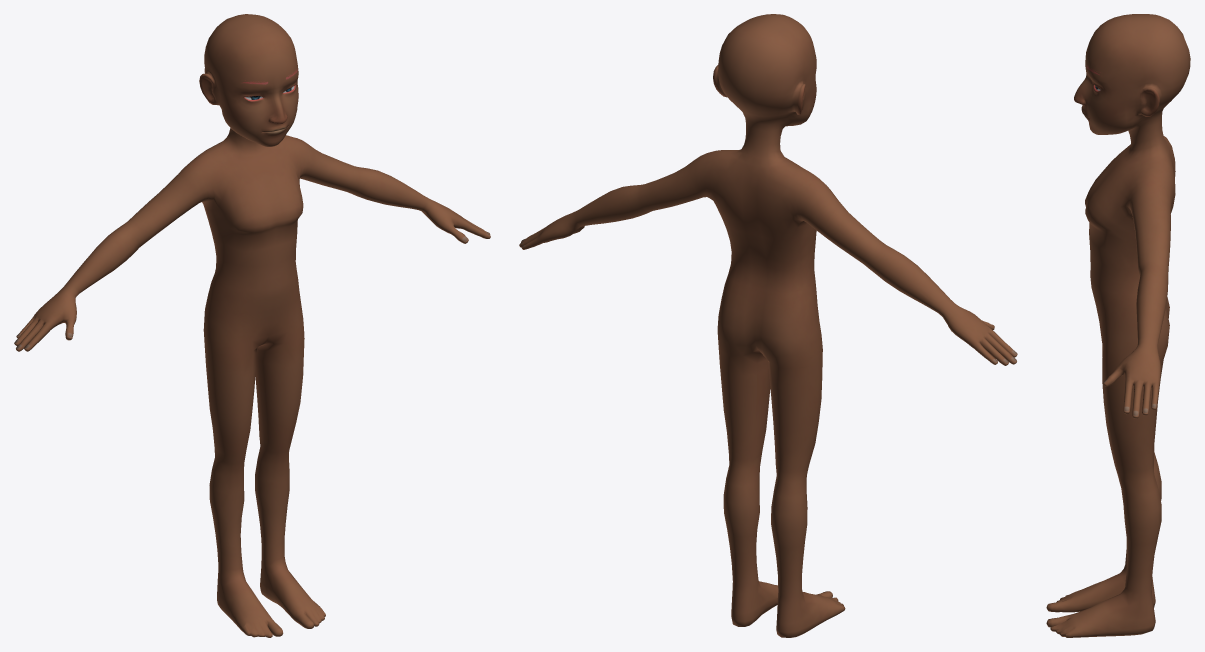
The model's file is frame_0013.glb.
3 renders of one model, left to right at view 1: azimuth 30°, elevation 25°; view 2: azimuth 150°, elevation 25°; view 3: azimuth 270°, elevation 25°, orthographic. The views are drawn at different scales.
Visible parts, largest first — view 1: frame_0013_head_geo; view 2: frame_0013_head_geo; view 3: frame_0013_head_geo.
Part boxes in pixels (left/top/right/bottom): frame_0013_head_geo: left=14, top=14, right=490, bottom=637; frame_0013_head_geo: left=519, top=14, right=1017, bottom=637; frame_0013_head_geo: left=1046, top=14, right=1190, bottom=637.
Bounding box in the file's own units: 1.28 × 1.5 × 0.3253.
Materials: 3 (3 with a texture image).
